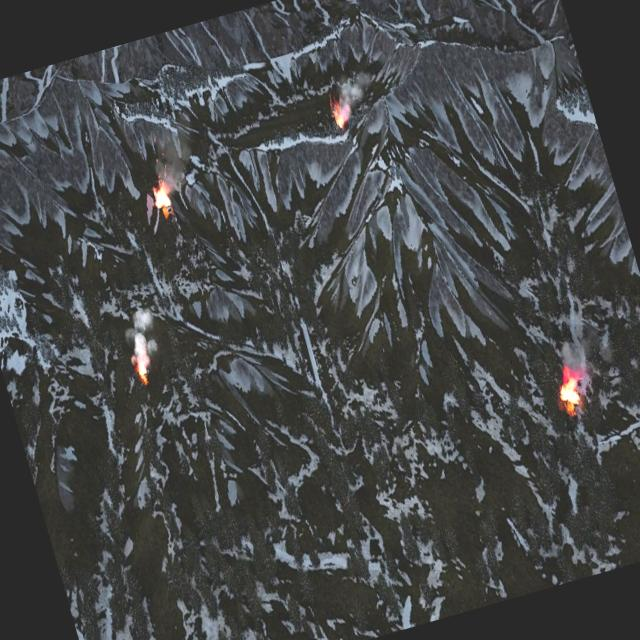fire: (553, 368, 584, 411), (152, 182, 174, 212), (134, 356, 152, 384), (331, 104, 348, 130)
smoke: (147, 126, 201, 192), (120, 304, 167, 363), (556, 332, 602, 392), (330, 66, 380, 112)
